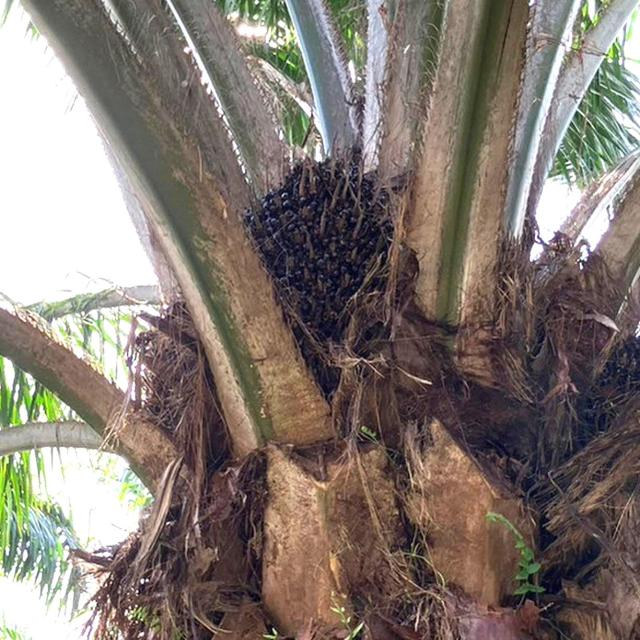unripe: (210, 126, 429, 414)
